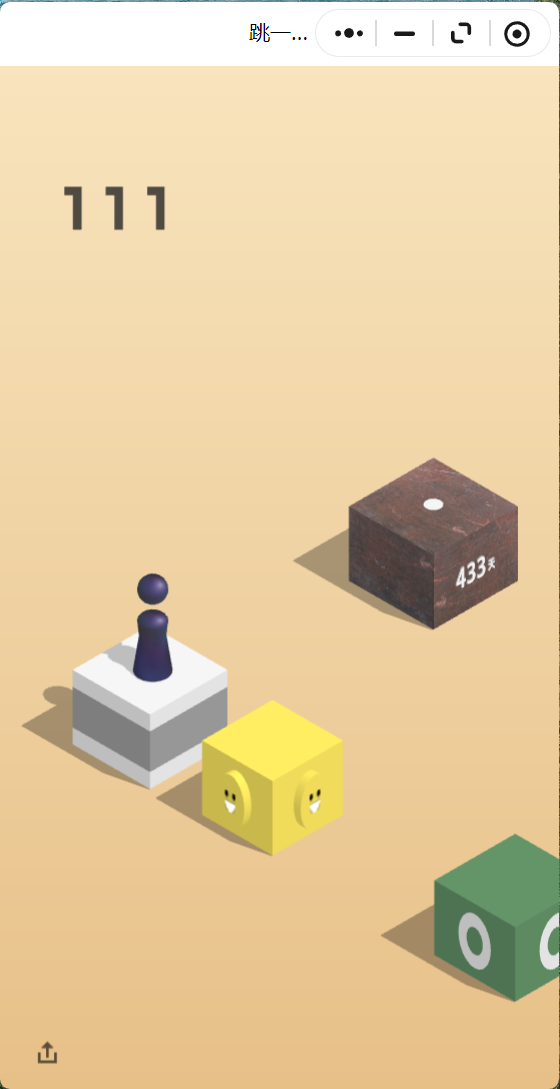piece: (138, 574, 168, 677)
target: (349, 457, 519, 551)
